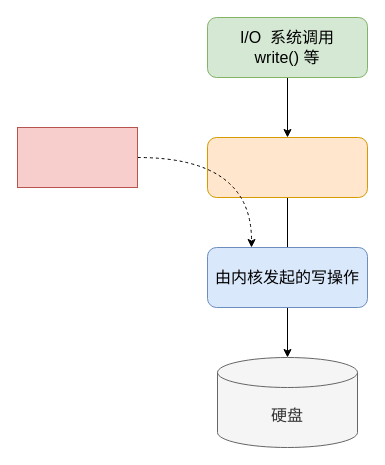
Image size: 385x465. Some labels were removed from this diagram. Each missing label, with the centre of its shape:
"fsync()" belongs at [77,157].
"内核缓冲区" belongs at [287,167].
